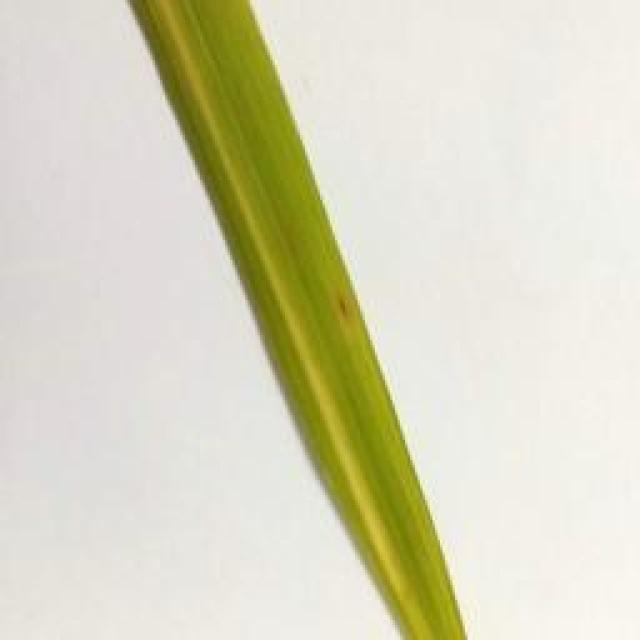Bacterial_Blight: (131, 0, 451, 640)
Brown_Spot: (308, 274, 377, 333)
